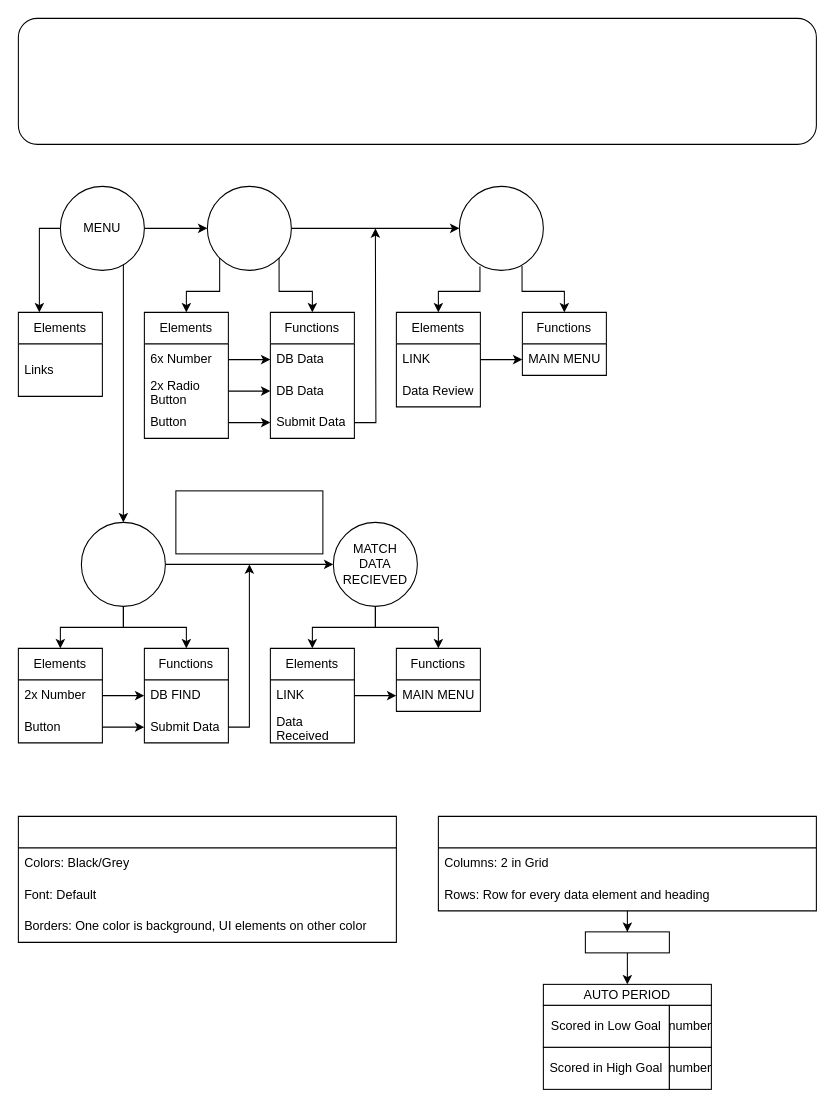
This 835x1108 diagram has some shape labels left out. Each missing label, with the box of its shape:
*Average Data should be the same as this, just with only one number input (Team): (175, 490, 323, 554)
EX: (584, 931, 669, 953)
Grid Layout: (437, 815, 816, 911)
Page Design: (17, 815, 396, 942)
RECORD MATCH: (206, 185, 291, 270)
STORE DATA: (458, 185, 543, 270)
UI DESIGN: (17, 17, 816, 144)
VIEW MATCH DATA: (80, 521, 165, 606)
